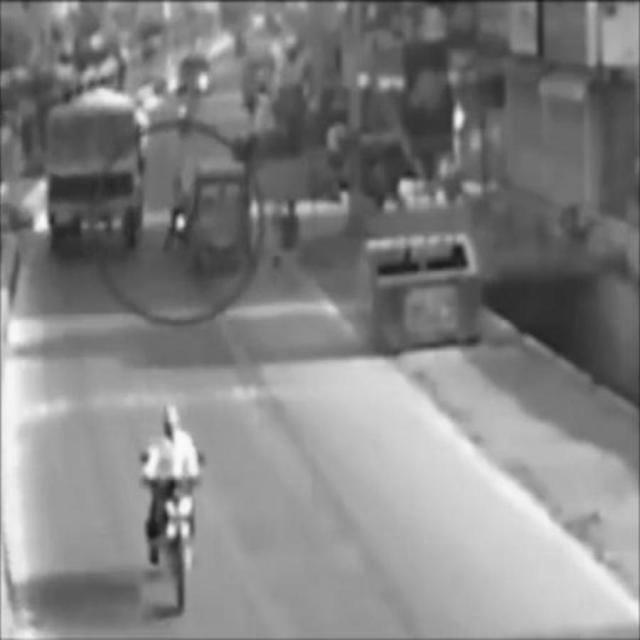accident: (168, 163, 256, 285)
person: (273, 195, 305, 296)
vehicle: (141, 404, 212, 612), (50, 107, 142, 253)
